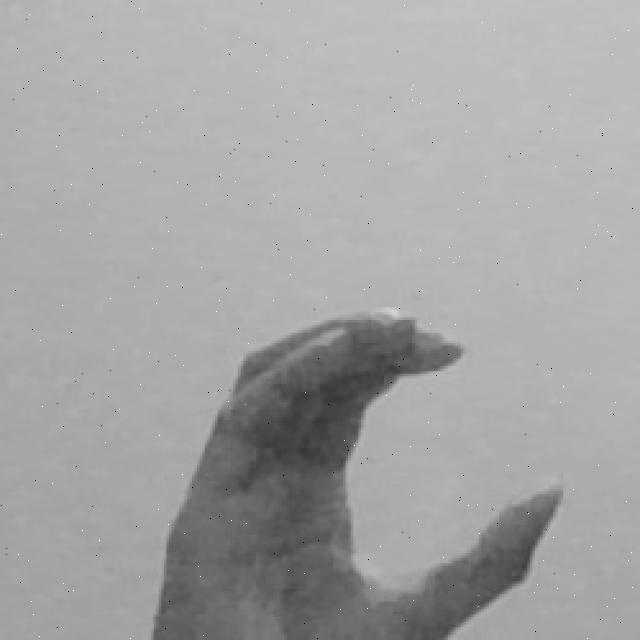C: (151, 307, 564, 640)
